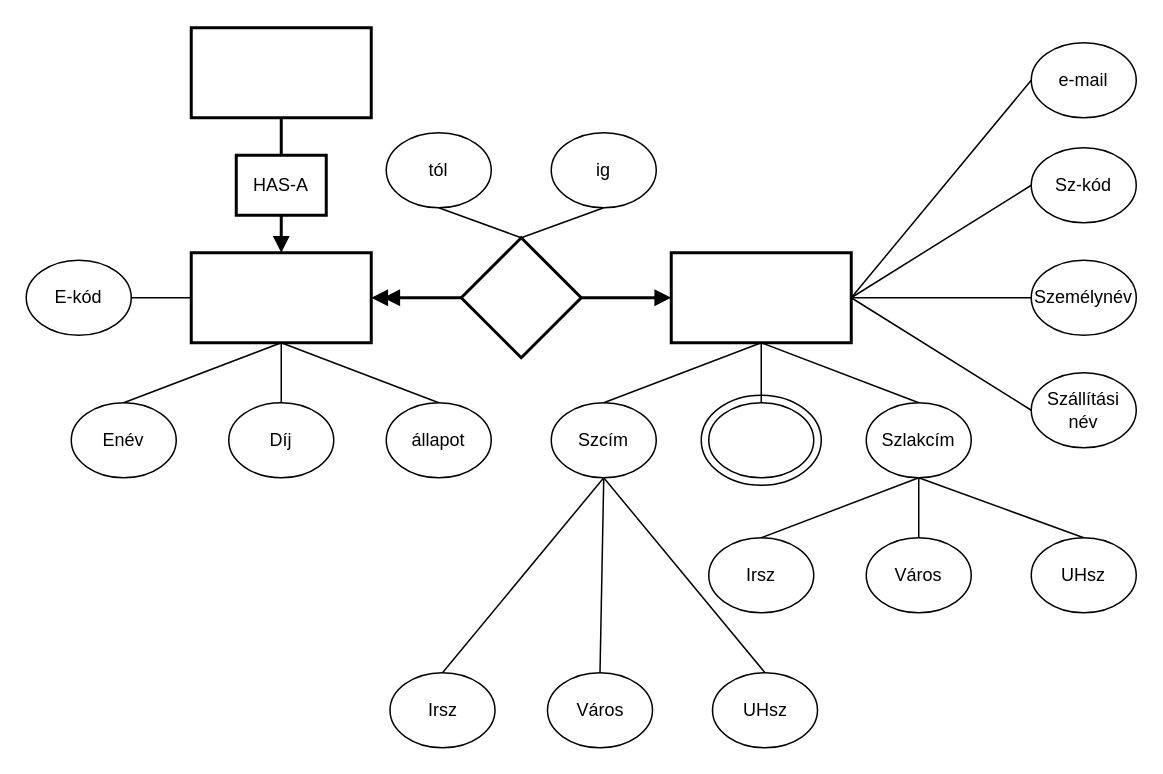
This 1163x774 diagram has some shape labels left out. The centre of each missing label's shape, as x and y in pixels:
Csónakház: pixel 280 72
ESZKÖZ: pixel 280 297
KÖLCSÖN: pixel 520 297
SZEMÉLY: pixel 760 297
Telszám: pixel 760 439
